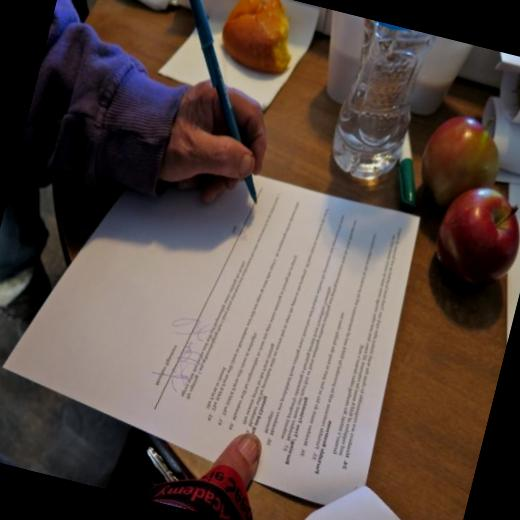Apple: (409, 104, 510, 224), (430, 174, 520, 303)
